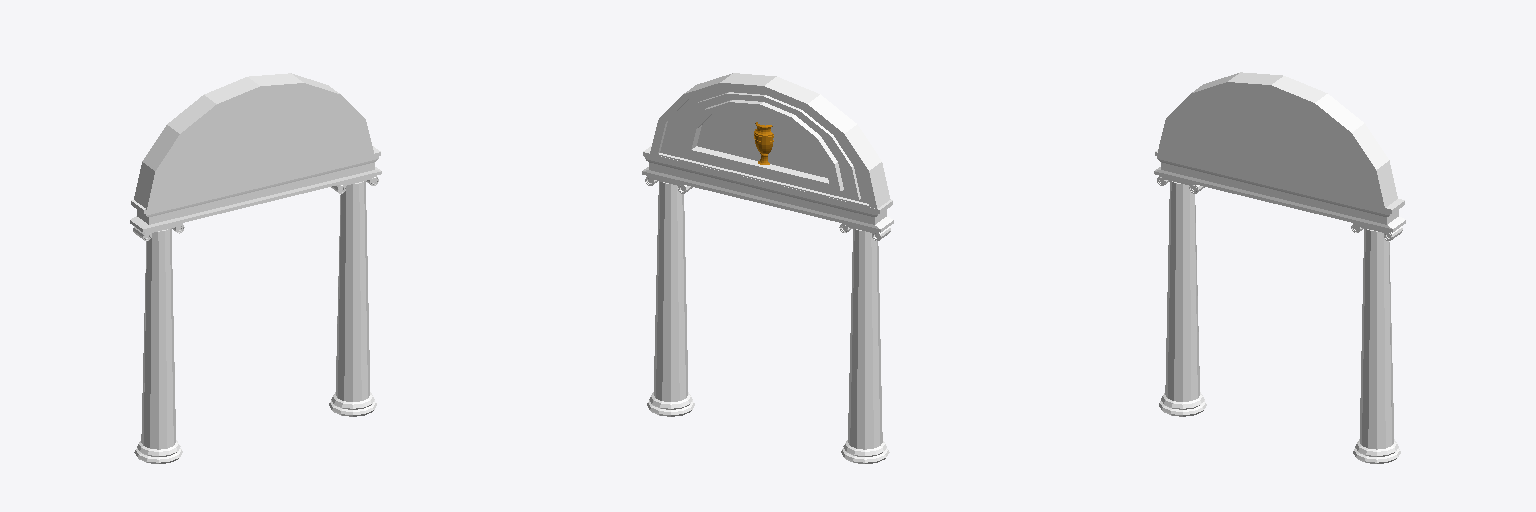
File: PortalMonumento.obj
The picture shows the model from 3 angles: view 1: azimuth 30°, elevation 25°; view 2: azimuth 150°, elevation 25°; view 3: azimuth 330°, elevation 25°; orthographic projection.
Parts seen in each view (by area): view 1: Cylinder.002_Cylinder.001; view 2: Cylinder.002_Cylinder.001; view 3: Cylinder.002_Cylinder.001.
Boxes of the visible parts, box(x1,y1,x2,y2) form: Cylinder.002_Cylinder.001: box(130, 73, 381, 463); Cylinder.002_Cylinder.001: box(642, 73, 893, 463); Cylinder.002_Cylinder.001: box(1154, 72, 1405, 463).
Bounding box in the file's own units: 4.6 × 6.45 × 0.811.